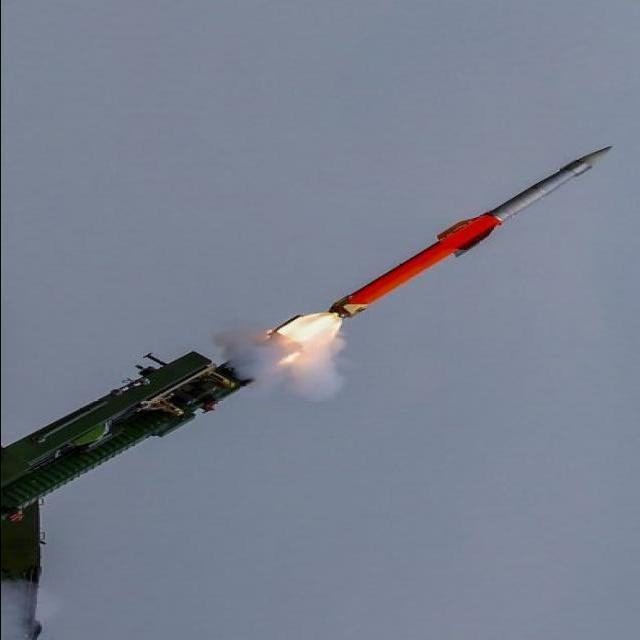missile: (338, 144, 618, 316)
